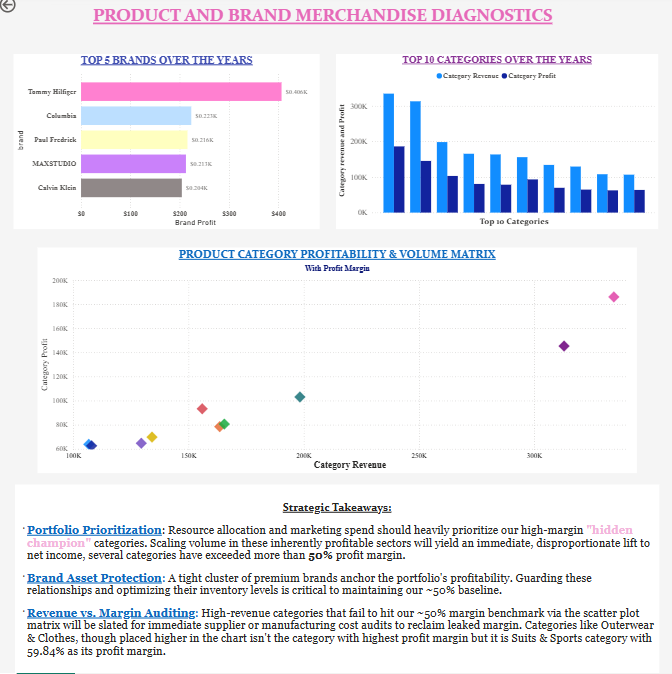

What the dashboard file says about the page in this screenshot:
{"tool":"powerbi","page":{"name":"Page 1","canvas":[1280,1280],"ordinal":1},"visuals":[{"type":"actionButton","box":[0,0,100,40],"z":0},{"type":"scatterChart","title":"PRODUCT CATEGORY PROFITABILITY & VOLUME MATRIX","fields":{"Series":["top10_categories (3).category"],"X":["Sum(top10_categories (3).category_revenue)"],"Y":["Sum(top10_categories (3).category_profit)"]},"box":[75,476.7,1130,425],"z":1000},{"type":"barChart","title":"TOP 5 BRANDS OVER THE YEARS ","fields":{"Category":["top5_brands.brand"],"Y":["Sum(top5_brands.brand_profit)"]},"box":[32.5,112.5,577.5,330],"z":2000},{"type":"clusteredColumnChart","title":"TOP 10 CATEGORIES OVER THE YEARS","fields":{"Y":["Sum(top10_categories (3).category_revenue)","Sum(top10_categories (3).category_profit)"],"Category":["top10_categories (3).category"]},"box":[640,112.5,607.5,330],"z":3000},{"type":"textbox","box":[33.3,925,1215,355],"z":4000},{"type":"textbox","title":"PRODUCT AND BRAND MERCHANDISE DIAGNOSTICS","box":[100,20,1030,40],"z":5000}]}

Visuals, with their boxes in screenshot pixels (x1, y1, x2, y2), scaled from the page's 1280x1280 canvas onto the 672x674 screenshot:
actionButton: (0, 0, 52, 21)
"PRODUCT CATEGORY PROFITABILITY & VOLUME MATRIX" scatterChart: (39, 251, 633, 475)
"TOP 5 BRANDS OVER THE YEARS " barChart: (17, 59, 320, 233)
"TOP 10 CATEGORIES OVER THE YEARS" clusteredColumnChart: (336, 59, 655, 233)
textbox: (17, 487, 655, 673)
"PRODUCT AND BRAND MERCHANDISE DIAGNOSTICS" textbox: (52, 11, 593, 32)
